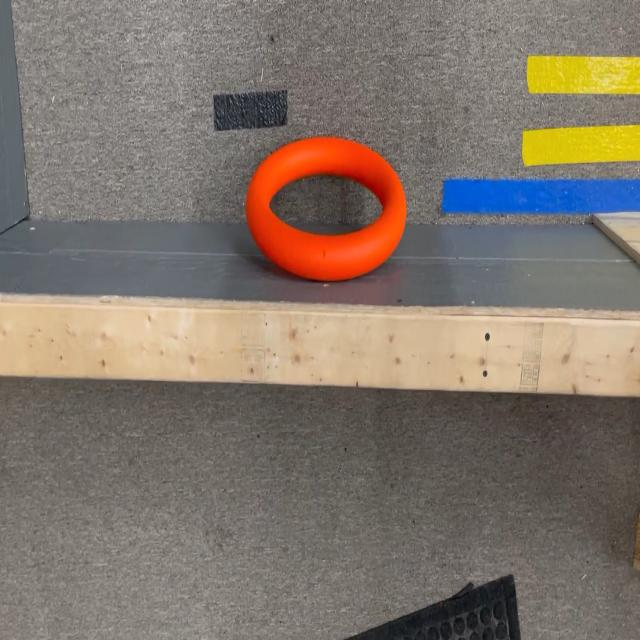note: (247, 136, 406, 277)
